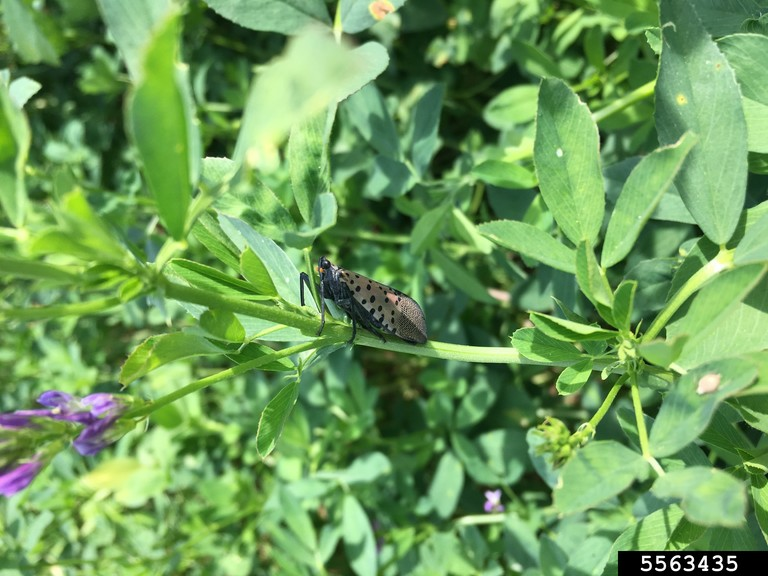adult: (300, 250, 436, 343)
